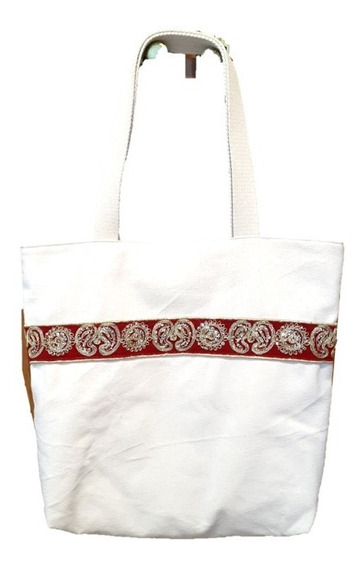cartera: (17, 28, 346, 541)
